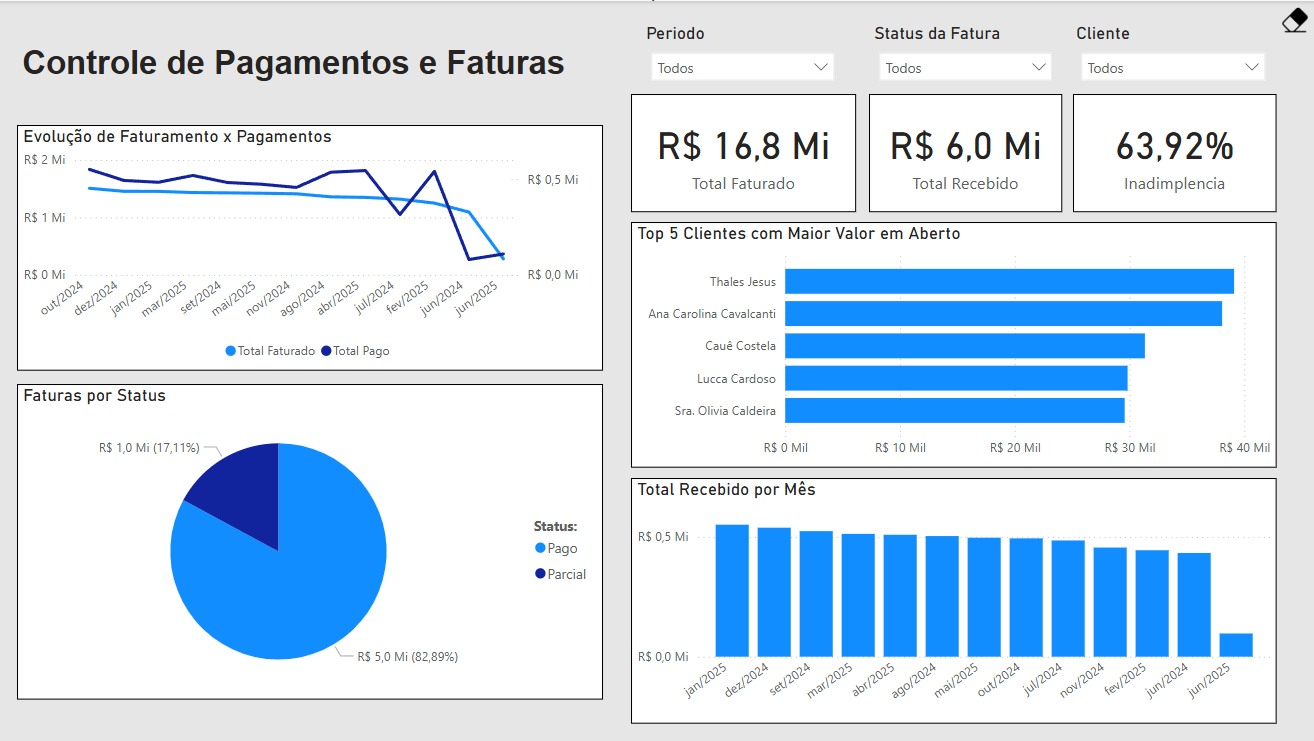

Layout of this report page (visuals, bound fields, positions):
{"tool":"powerbi","page":{"name":"Controle de Pagamentos","canvas":[1280,720],"ordinal":0},"visuals":[{"type":"slicer","title":"Periodo","fields":{"Values":["Calendario.MesAno"]},"box":[623.3,21.3,197.7,63],"z":0},{"type":"slicer","title":"Status da Fatura","fields":{"Values":["status_pagamento.nome_status"]},"box":[845,21.3,188,63],"z":1000},{"type":"slicer","title":"Cliente","fields":{"Values":["clientes.nome"]},"box":[1041.9,21.3,198.6,63],"z":2000},{"type":"lineChart","title":"Evolução de Faturamento x Pagamentos","fields":{"Y":["Calendario.TotalFaturado"],"Y2":["Calendario.TotalPago"],"Category":["Calendario.MesAno"]},"box":[17,120.9,569.6,238.8],"z":3000},{"type":"clusteredBarChart","title":"Top 5 Clientes com Maior Valor em Aberto","fields":{"Category":["clientes.nome"],"Y":["Calendario.ValorEmAberto"]},"box":[613.5,214.8,627.5,238.8],"z":4000},{"type":"pieChart","title":"Faturas por Status","fields":{"Category":["status_pagamento.nome_status"],"Y":["Calendario.TotalRecebido"]},"box":[17,372.7,569.6,306.8],"z":5000},{"type":"columnChart","title":"Total Recebido por Mês","fields":{"Category":["Calendario.MesAno"],"Y":["Calendario.TotalRecebido"]},"box":[613.5,463.6,627.5,238.8],"z":6000},{"type":"card","fields":{"Values":["Calendario.TotalFaturado"]},"box":[613.5,90.9,218.8,114.9],"z":7000},{"type":"card","fields":{"Values":["Calendario.TotalRecebido"]},"box":[845.3,90.9,187.9,114.9],"z":8000},{"type":"card","fields":{"Values":["Calendario.Inadimplencia"]},"box":[1043.2,90.9,197.8,114.9],"z":9000},{"type":"textbox","box":[17,37,547.6,69.9],"z":9001},{"type":"image","box":[1240.1,0,39.9,37.2],"z":9002}]}

Visuals, with their boxes in screenshot pixels (x1, y1, x2, y2), scaled from the page's 1280x720 canvas onto the 1314x741 screenshot:
"Periodo" slicer: <region>640, 22, 843, 87</region>
"Status da Fatura" slicer: <region>867, 22, 1060, 87</region>
"Cliente" slicer: <region>1070, 22, 1273, 87</region>
"Evolução de Faturamento x Pagamentos" lineChart: <region>17, 124, 602, 370</region>
"Top 5 Clientes com Maior Valor em Aberto" clusteredBarChart: <region>630, 221, 1274, 467</region>
"Faturas por Status" pieChart: <region>17, 384, 602, 699</region>
"Total Recebido por Mês" columnChart: <region>630, 477, 1274, 723</region>
card - Calendario.TotalFaturado: <region>630, 94, 854, 212</region>
card - Calendario.TotalRecebido: <region>868, 94, 1061, 212</region>
card - Calendario.Inadimplencia: <region>1071, 94, 1274, 212</region>
textbox: <region>17, 38, 580, 110</region>
image: <region>1273, 0, 1313, 38</region>
